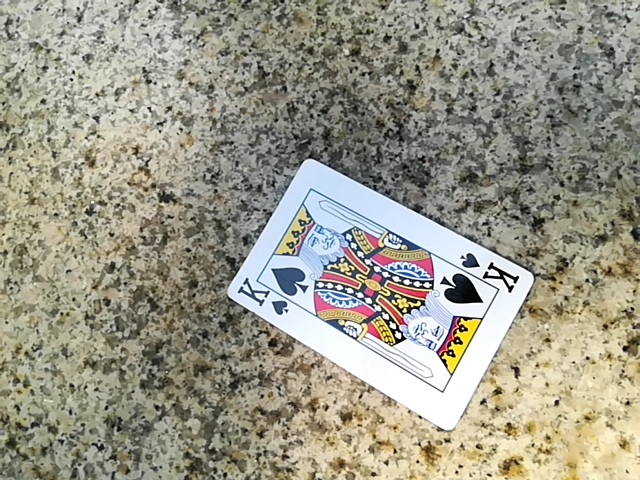ht k: (224, 159, 529, 430)
